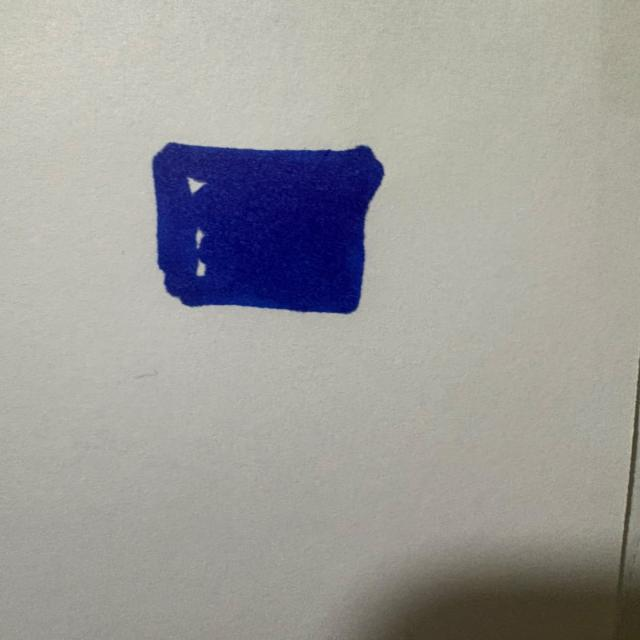Square: (152, 143, 384, 314)
